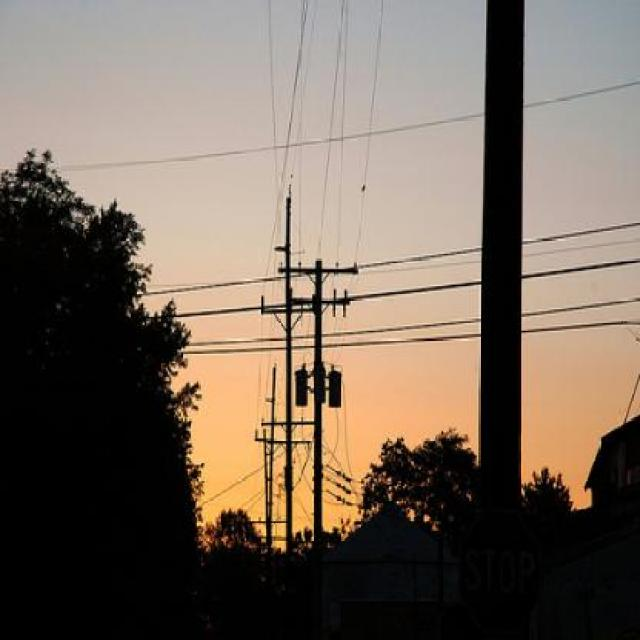pole: (272, 196, 299, 550), (309, 261, 334, 534)
